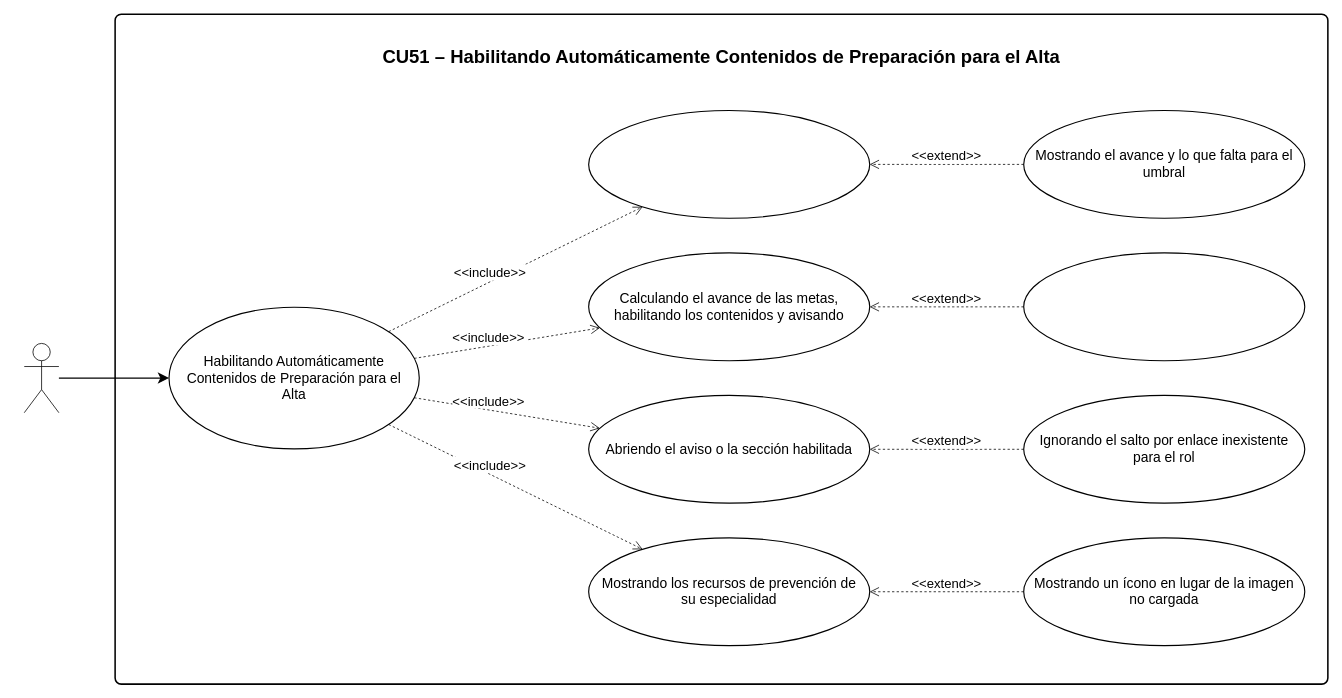
Some shapes in this 1342 by 698 pixel diagram are drawn without their labels. The shapes that lost their labels are listed below. From the top down, each one's centre as x and y in pixels, then its label:
At (729,164): "Abriendo la sección de prevención y alta del tratamiento".
At (1164,306): "No habilitando la preparación por metas contradictorias".
At (41,378): "Paciente".
